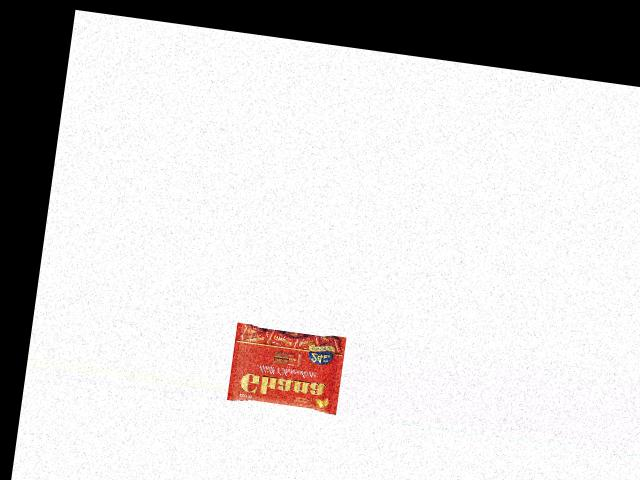chocolate: (229, 320, 348, 413)
